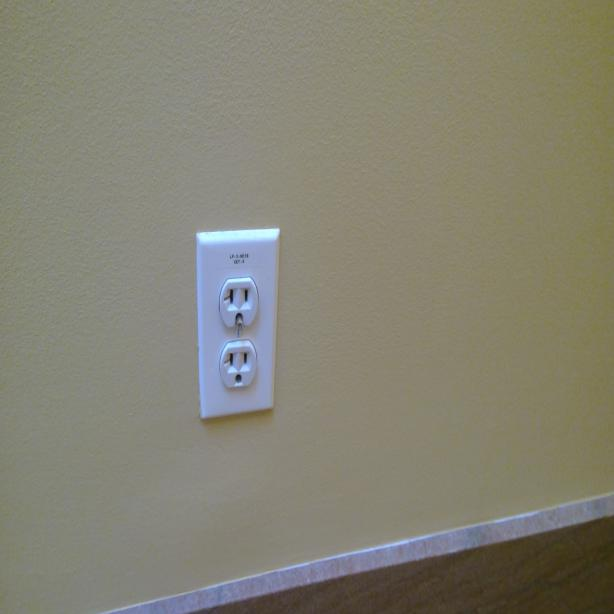typeb: (220, 280, 258, 328), (220, 342, 255, 391)
